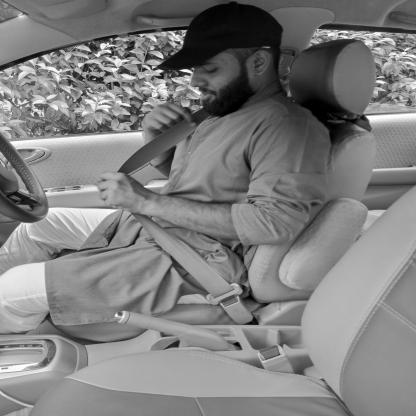seatbelt: (121, 10, 298, 255)
